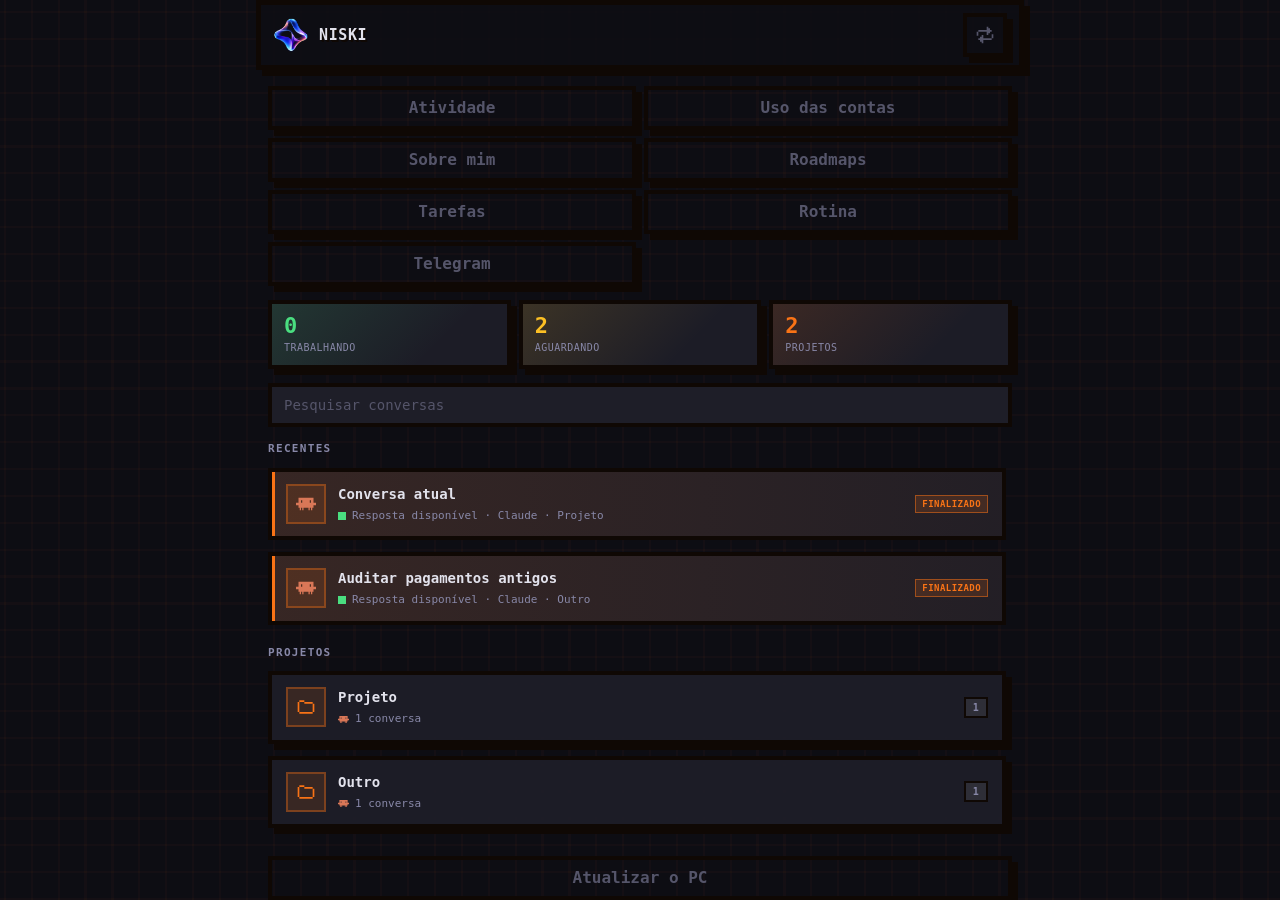
Scenario: pesquisa conversas de todos os projetos e mantém os quatro modos junto ao composer
The image size is (1280, 900).
Type "pagamentos antigos" into the search field labelled "Pesquisar conversas" at {"x": 640, "y": 405}, box [268,383,1012,427]
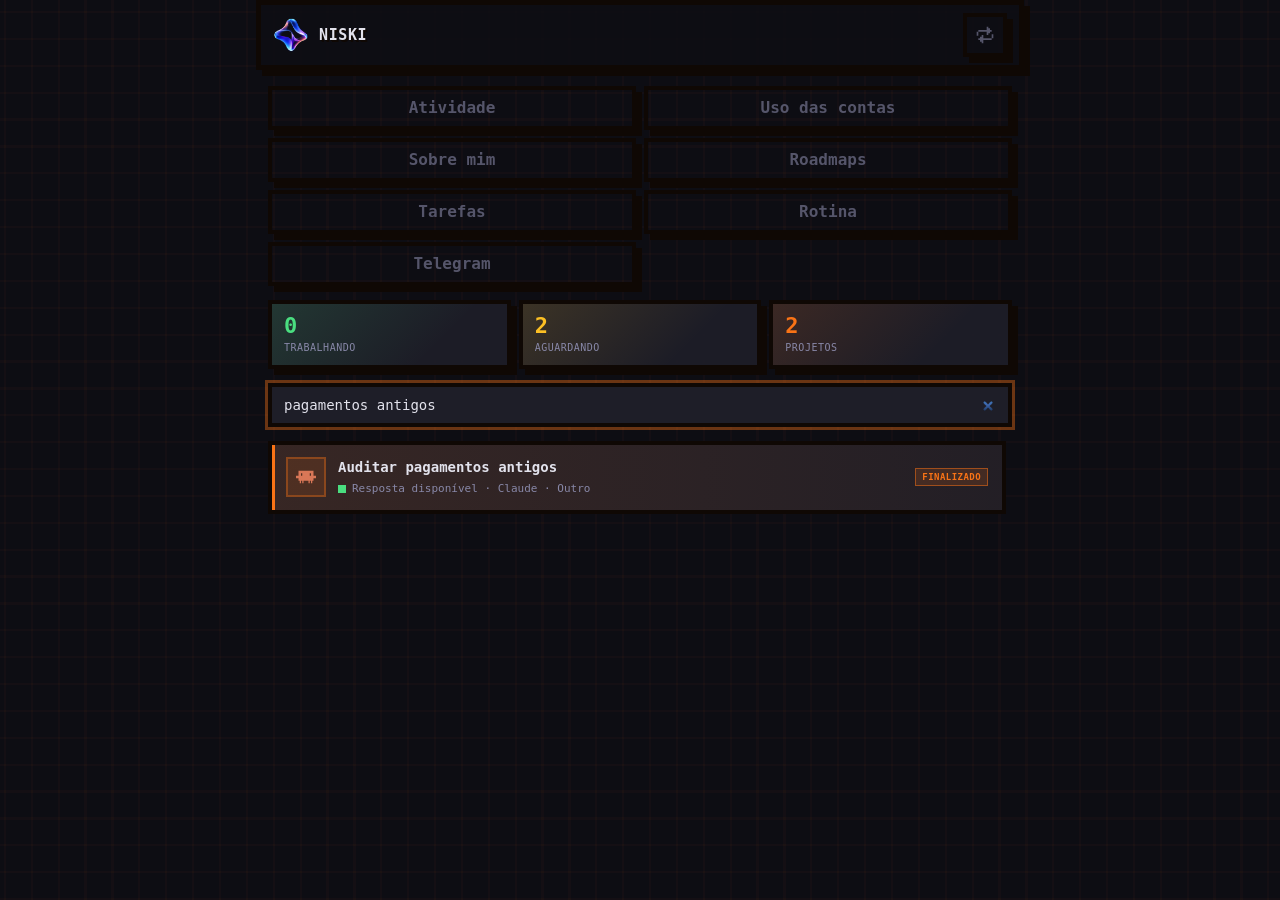
Click the button with aria-label "Abrir conversa Auditar pagamentos antigos" at {"x": 306, "y": 477}, box [268,441,1006,514]
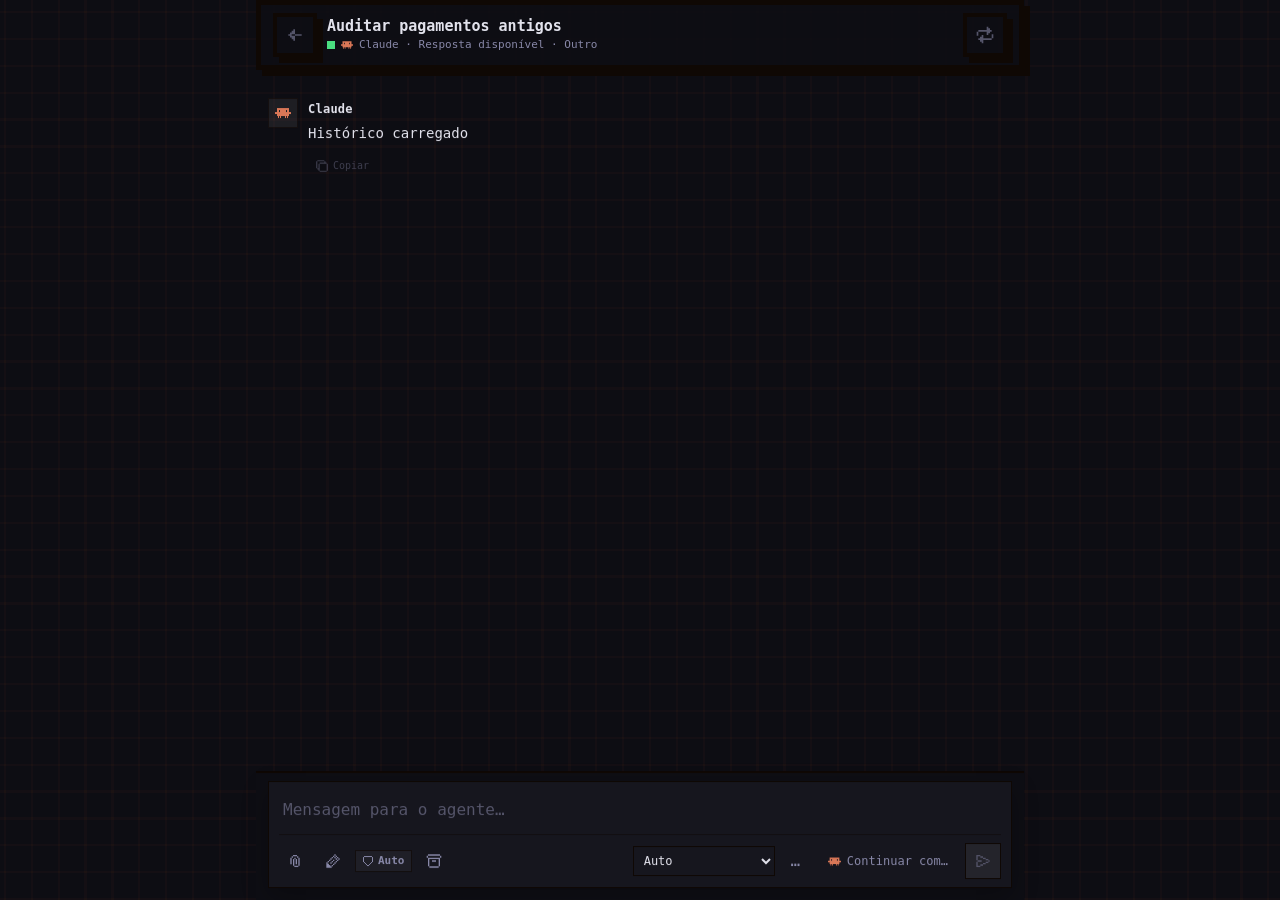
Expected: the text "Histórico carregado" is shown, [308,122,468,146]
Expected: the dropdown named "Modo do agente" shows "Auto", [633,846,775,876]
